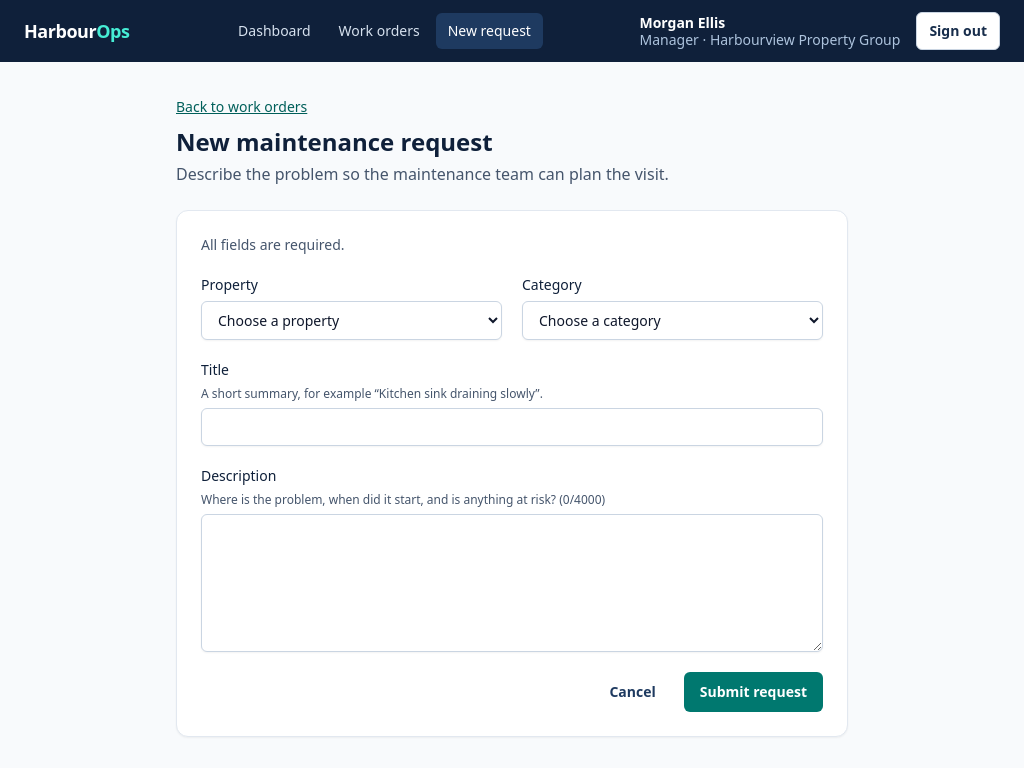
Test: CreateWorkOrderPage › shows server validation errors next to the matching field
The width and height of the screenshot is (1024, 768).
Select "Quayside Lofts (Halifax)" in the dropdown labelled "Property" at (352, 320), box left=201, top=301, right=502, bottom=340
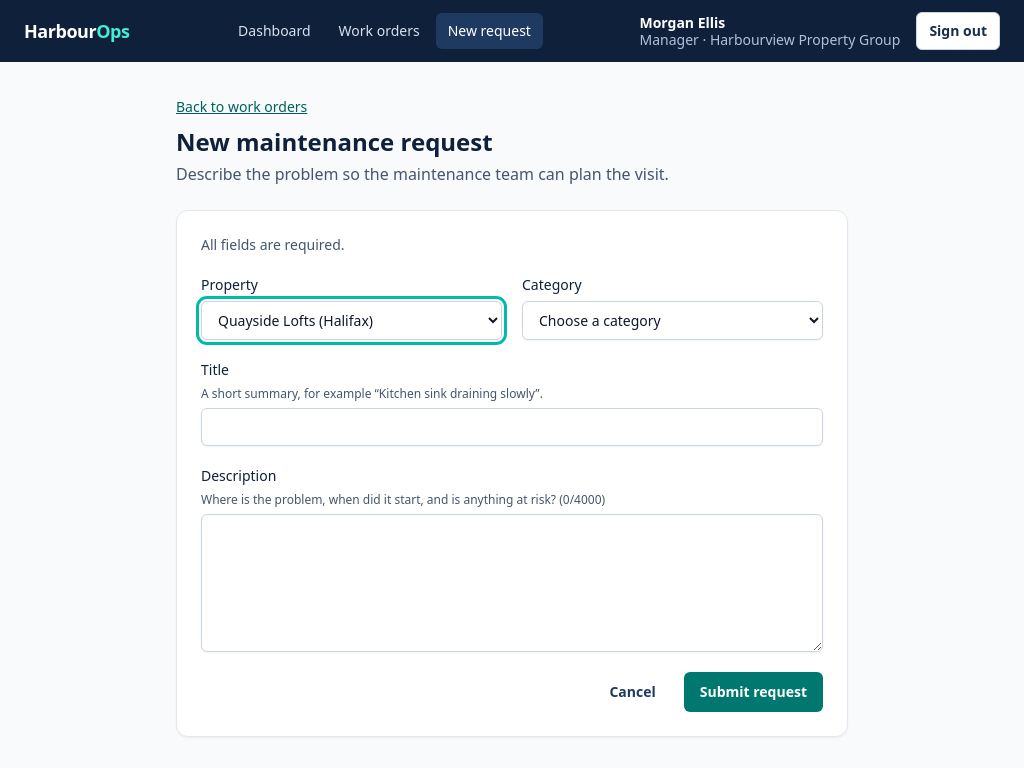
Select "Plumbing" in the dropdown labelled "Category" at (672, 320), box left=522, top=301, right=823, bottom=340
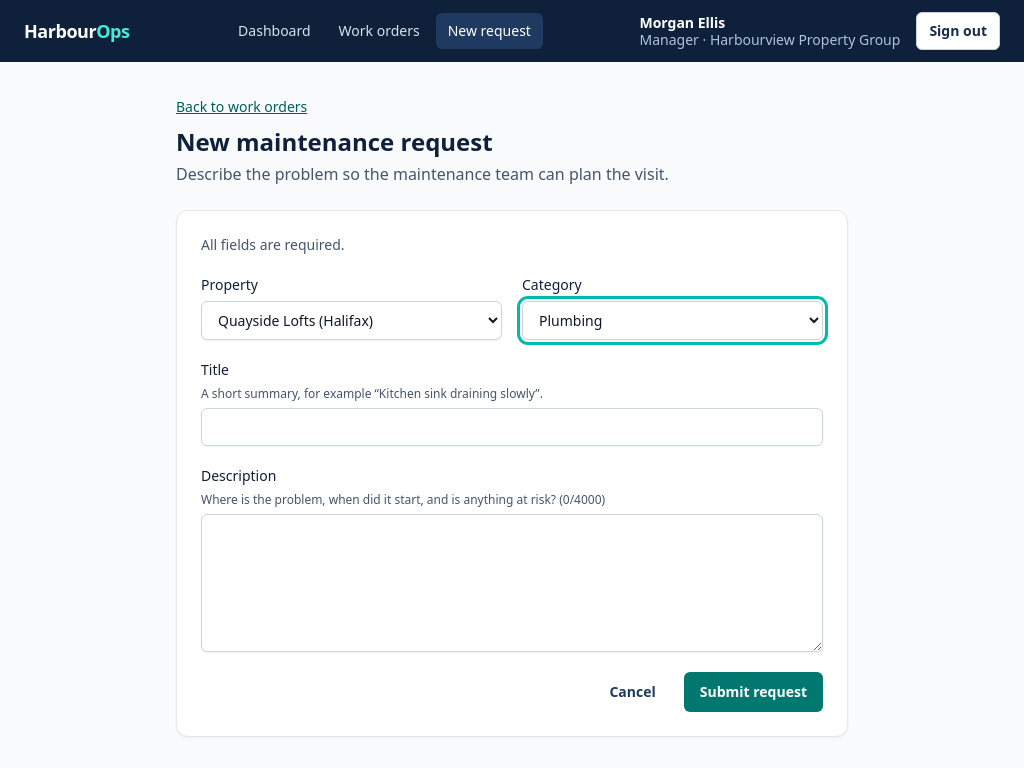
Type "Leaking tap" into the field labelled "Title" at (512, 427), box left=201, top=408, right=823, bottom=446
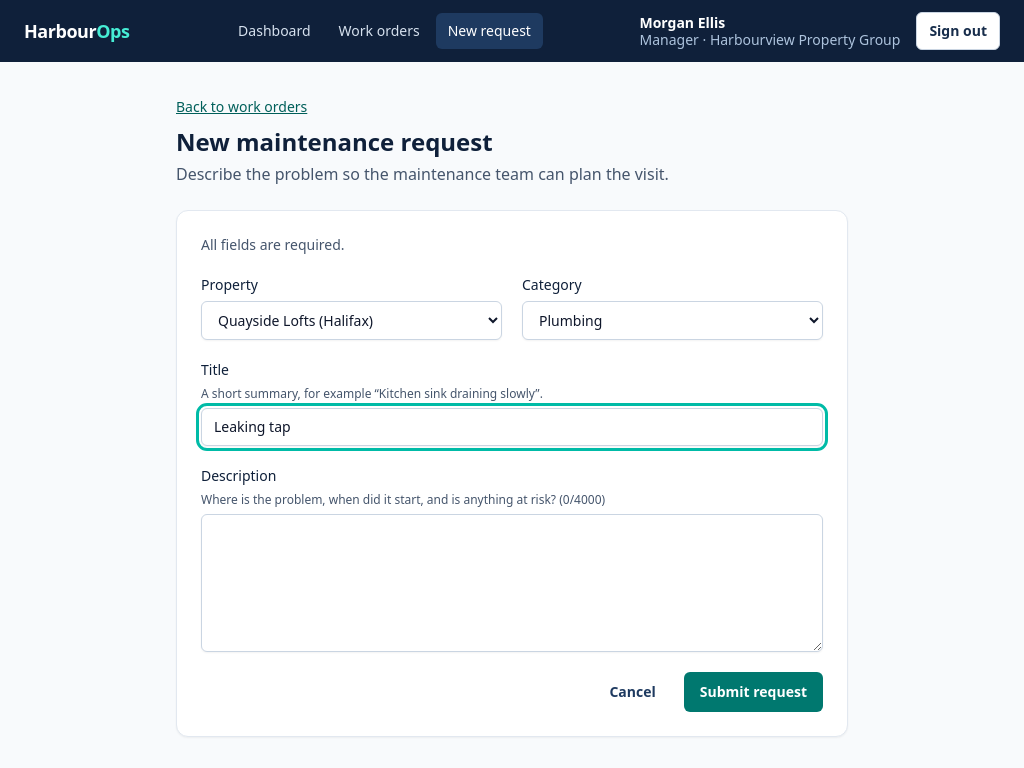
Type "Drips constantly." into the text box labelled "Description" at (512, 583), box left=201, top=514, right=823, bottom=652
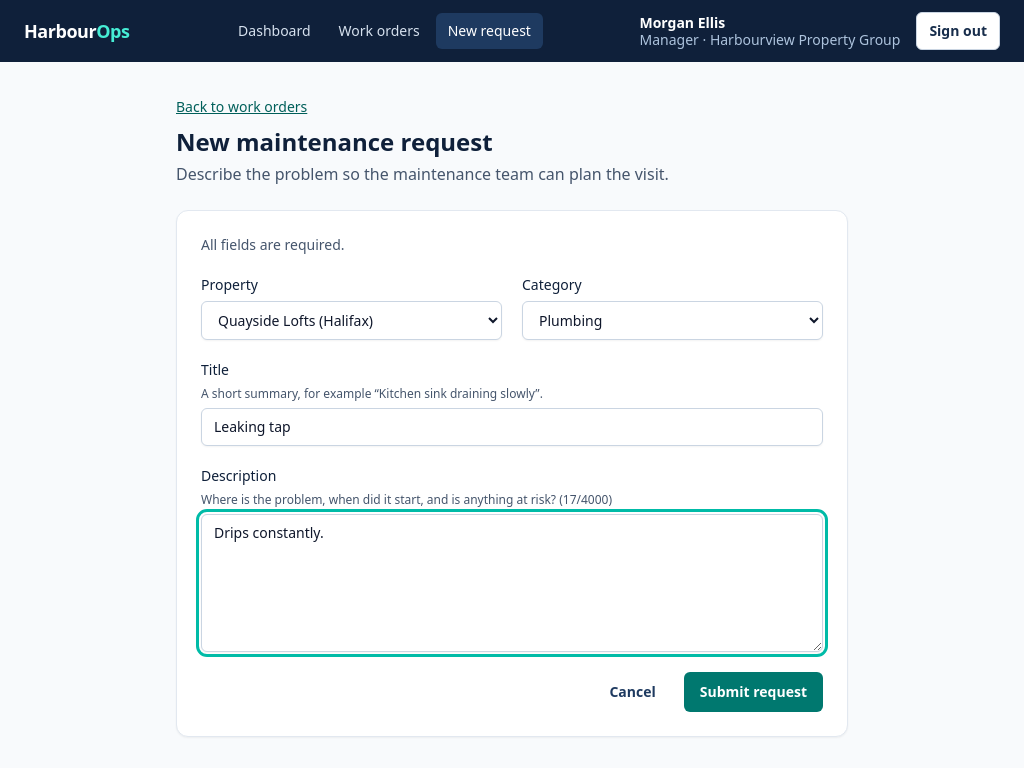
Click the button "Submit request" at (753, 692), box left=684, top=672, right=823, bottom=712
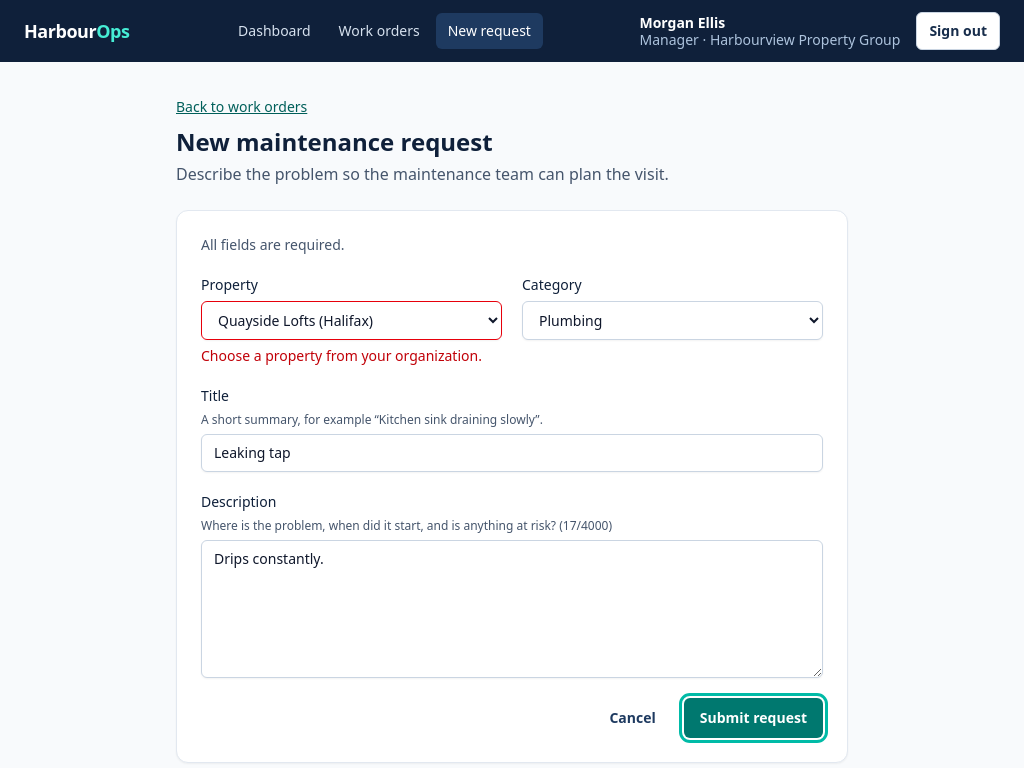
Check: the text "Choose a property from your organization." is shown, box left=201, top=346, right=502, bottom=366
